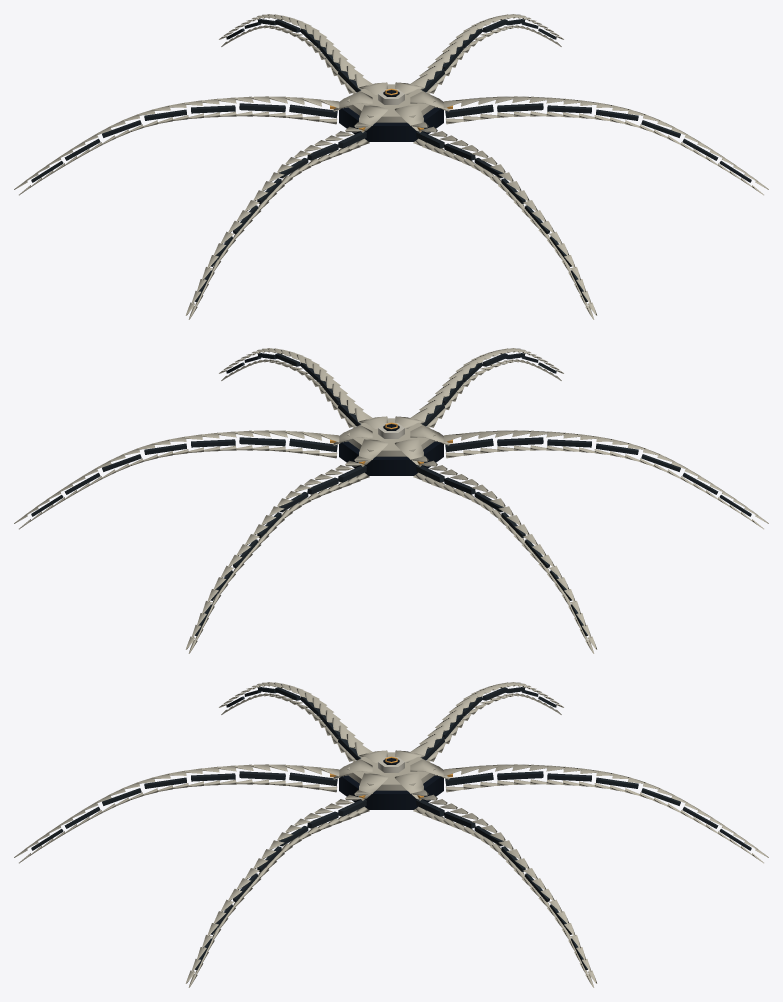
Rendered from rokuroku66_d0_lod2.meshopt.glb.
The picture shows the model from 3 angles, top to bottom: view 1: azimuth 30°, elevation 25°; view 2: azimuth 150°, elevation 25°; view 3: azimuth 270°, elevation 25°; orthographic projection.
Parts seen in each view (by area): view 1: DISTANCE_GEOMETRY; view 2: DISTANCE_GEOMETRY; view 3: DISTANCE_GEOMETRY.
Part boxes in pixels (x1=…): DISTANCE_GEOMETRY: x1=14, y1=14, x2=768, y2=319; DISTANCE_GEOMETRY: x1=14, y1=348, x2=768, y2=653; DISTANCE_GEOMETRY: x1=14, y1=682, x2=768, y2=987.
Bounding box in the file's own units: 8.73 × 1.41 × 10.07.
